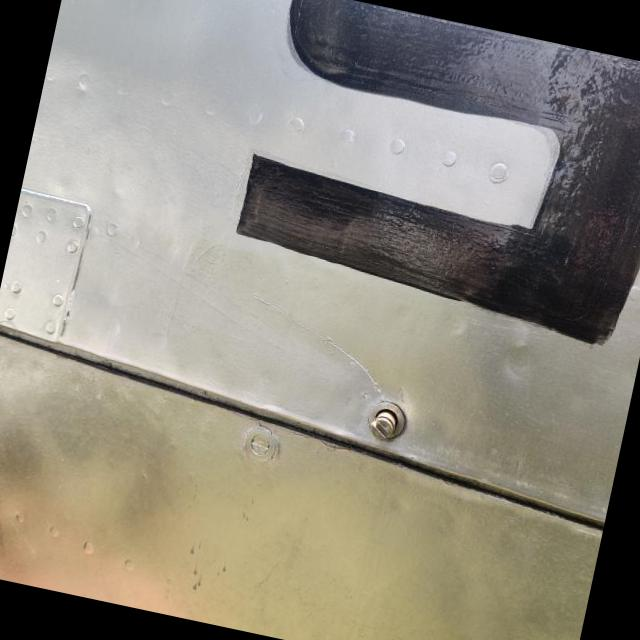Scratch: (245, 287, 389, 405)
